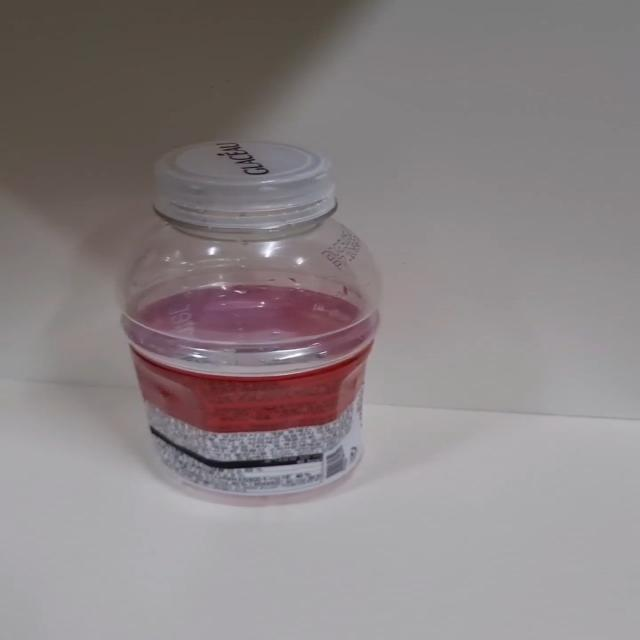Plastic: (118, 140, 384, 510)
